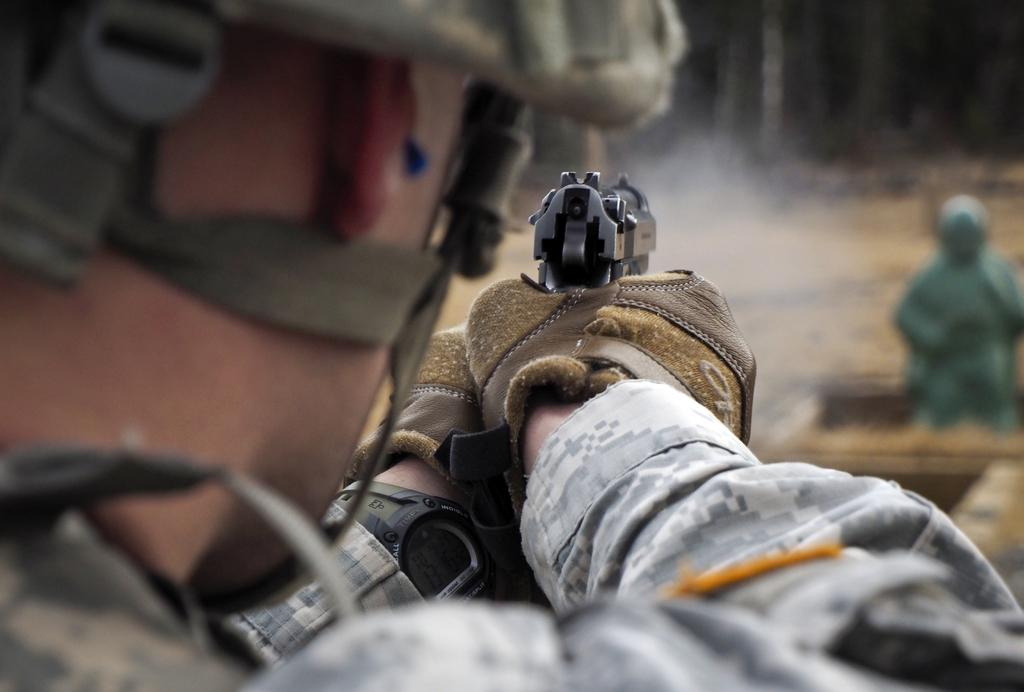Rifle: (520, 169, 662, 293)
